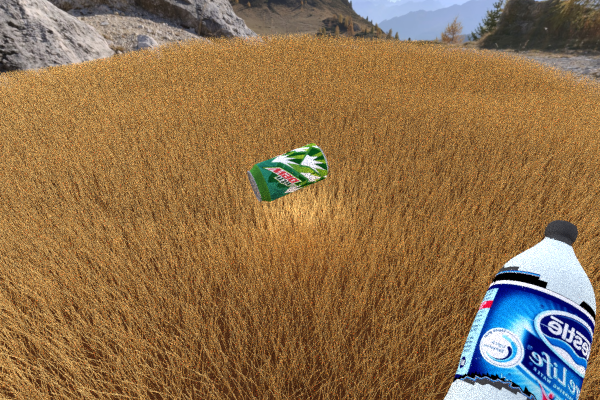Plastic Bottle: (412, 220, 596, 400), (247, 143, 328, 202), (327, 90, 367, 125)
